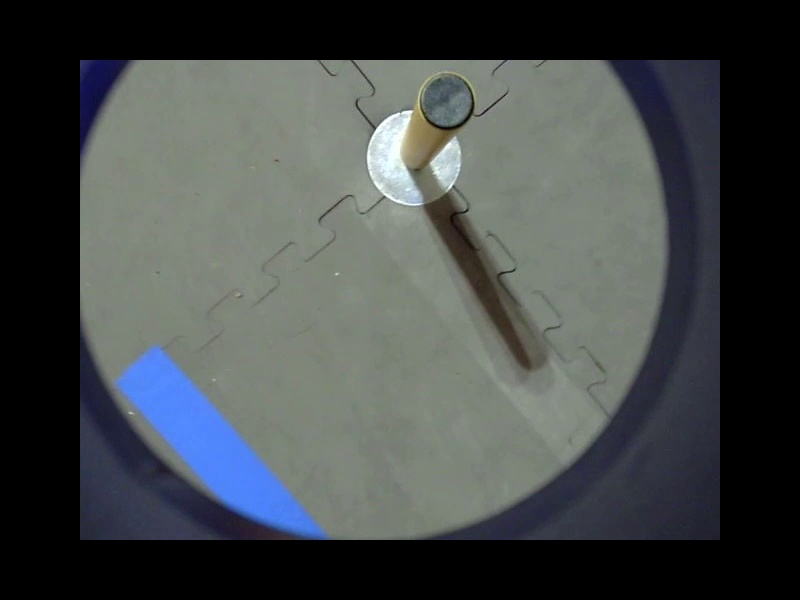tip: (413, 68, 481, 139)
